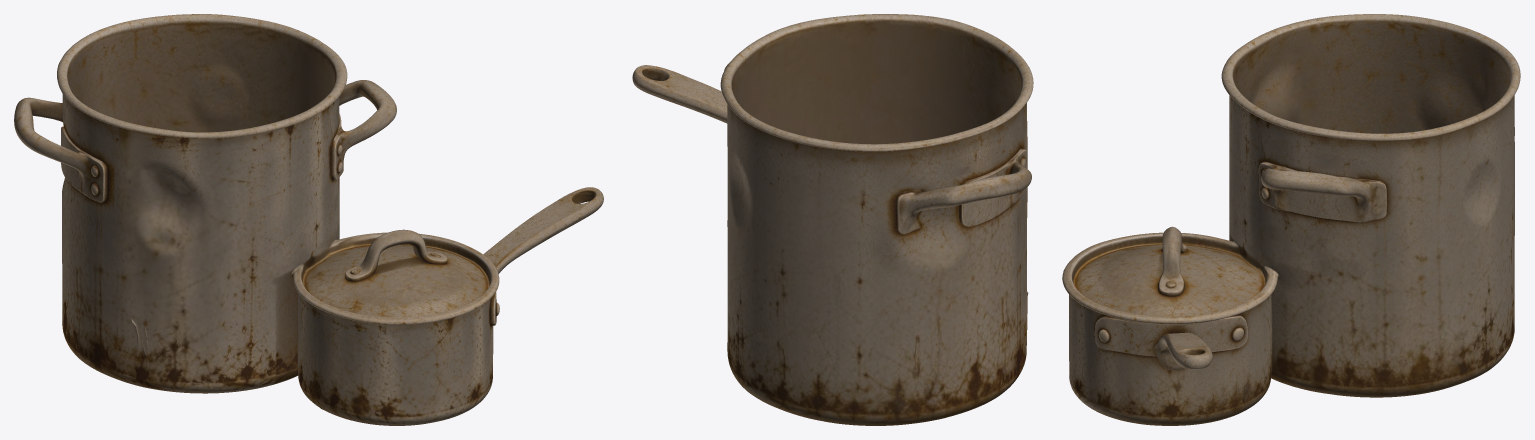
The model's file is k_stockpot.glb.
The picture shows the model from 3 angles, left to right: view 1: azimuth 30°, elevation 25°; view 2: azimuth 150°, elevation 25°; view 3: azimuth 270°, elevation 25°; orthographic projection. The views are drawn at different scales.
Size of the model in its own units: 1.9 by 1.03 by 1.58.
Materials: 1 (1 with a texture image).
